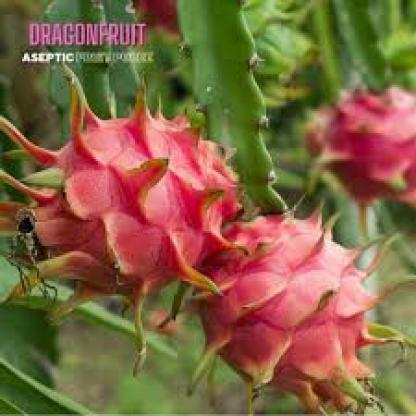dragon-fruit: (34, 116, 239, 291), (198, 214, 368, 393), (307, 90, 416, 200), (134, 0, 179, 36)
